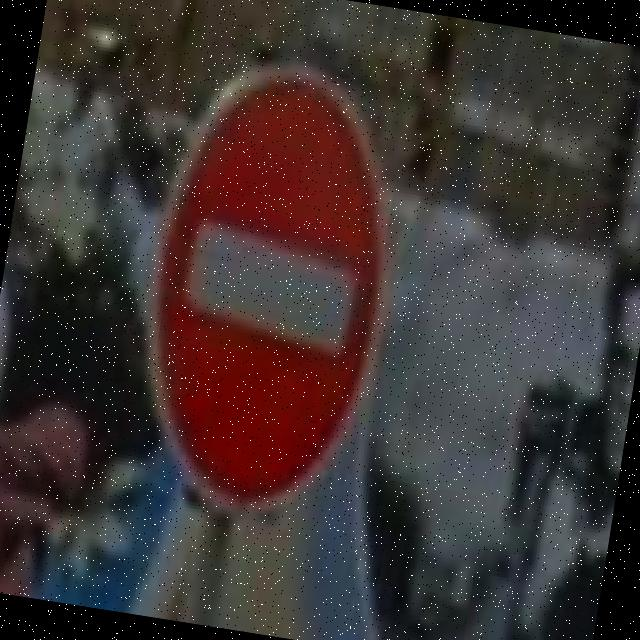Zakaz wjazdu: (118, 48, 425, 534)
